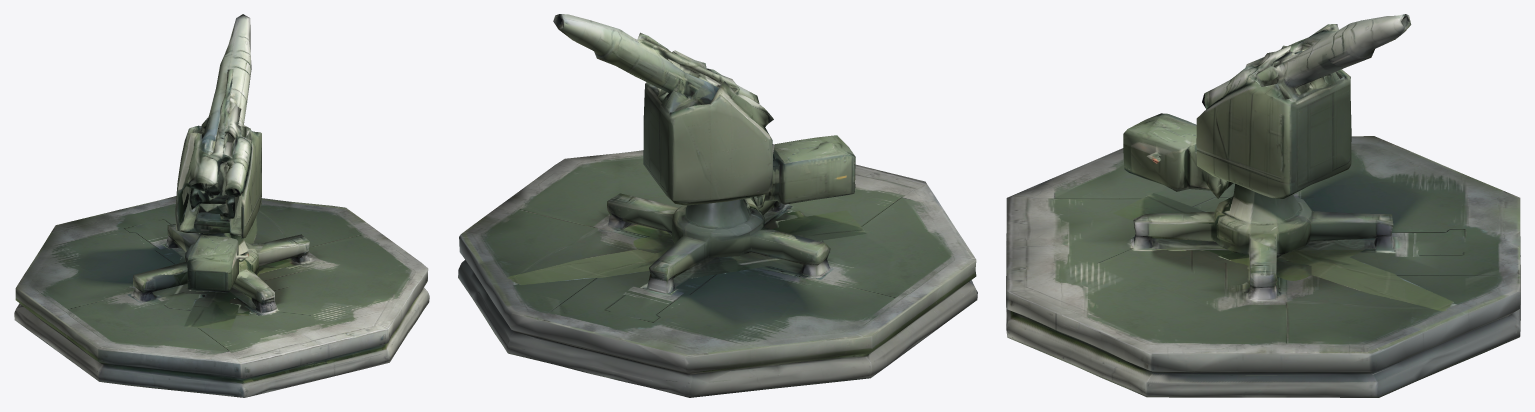
Rendered from missile_base.glb.
The picture shows the model from 3 angles, left to right: view 1: azimuth 30°, elevation 25°; view 2: azimuth 150°, elevation 25°; view 3: azimuth 270°, elevation 25°; orthographic projection. The views are drawn at different scales.
Bounding box in the file's own units: 2.01 × 1.4 × 2.01.
1 material, 1 textured.
